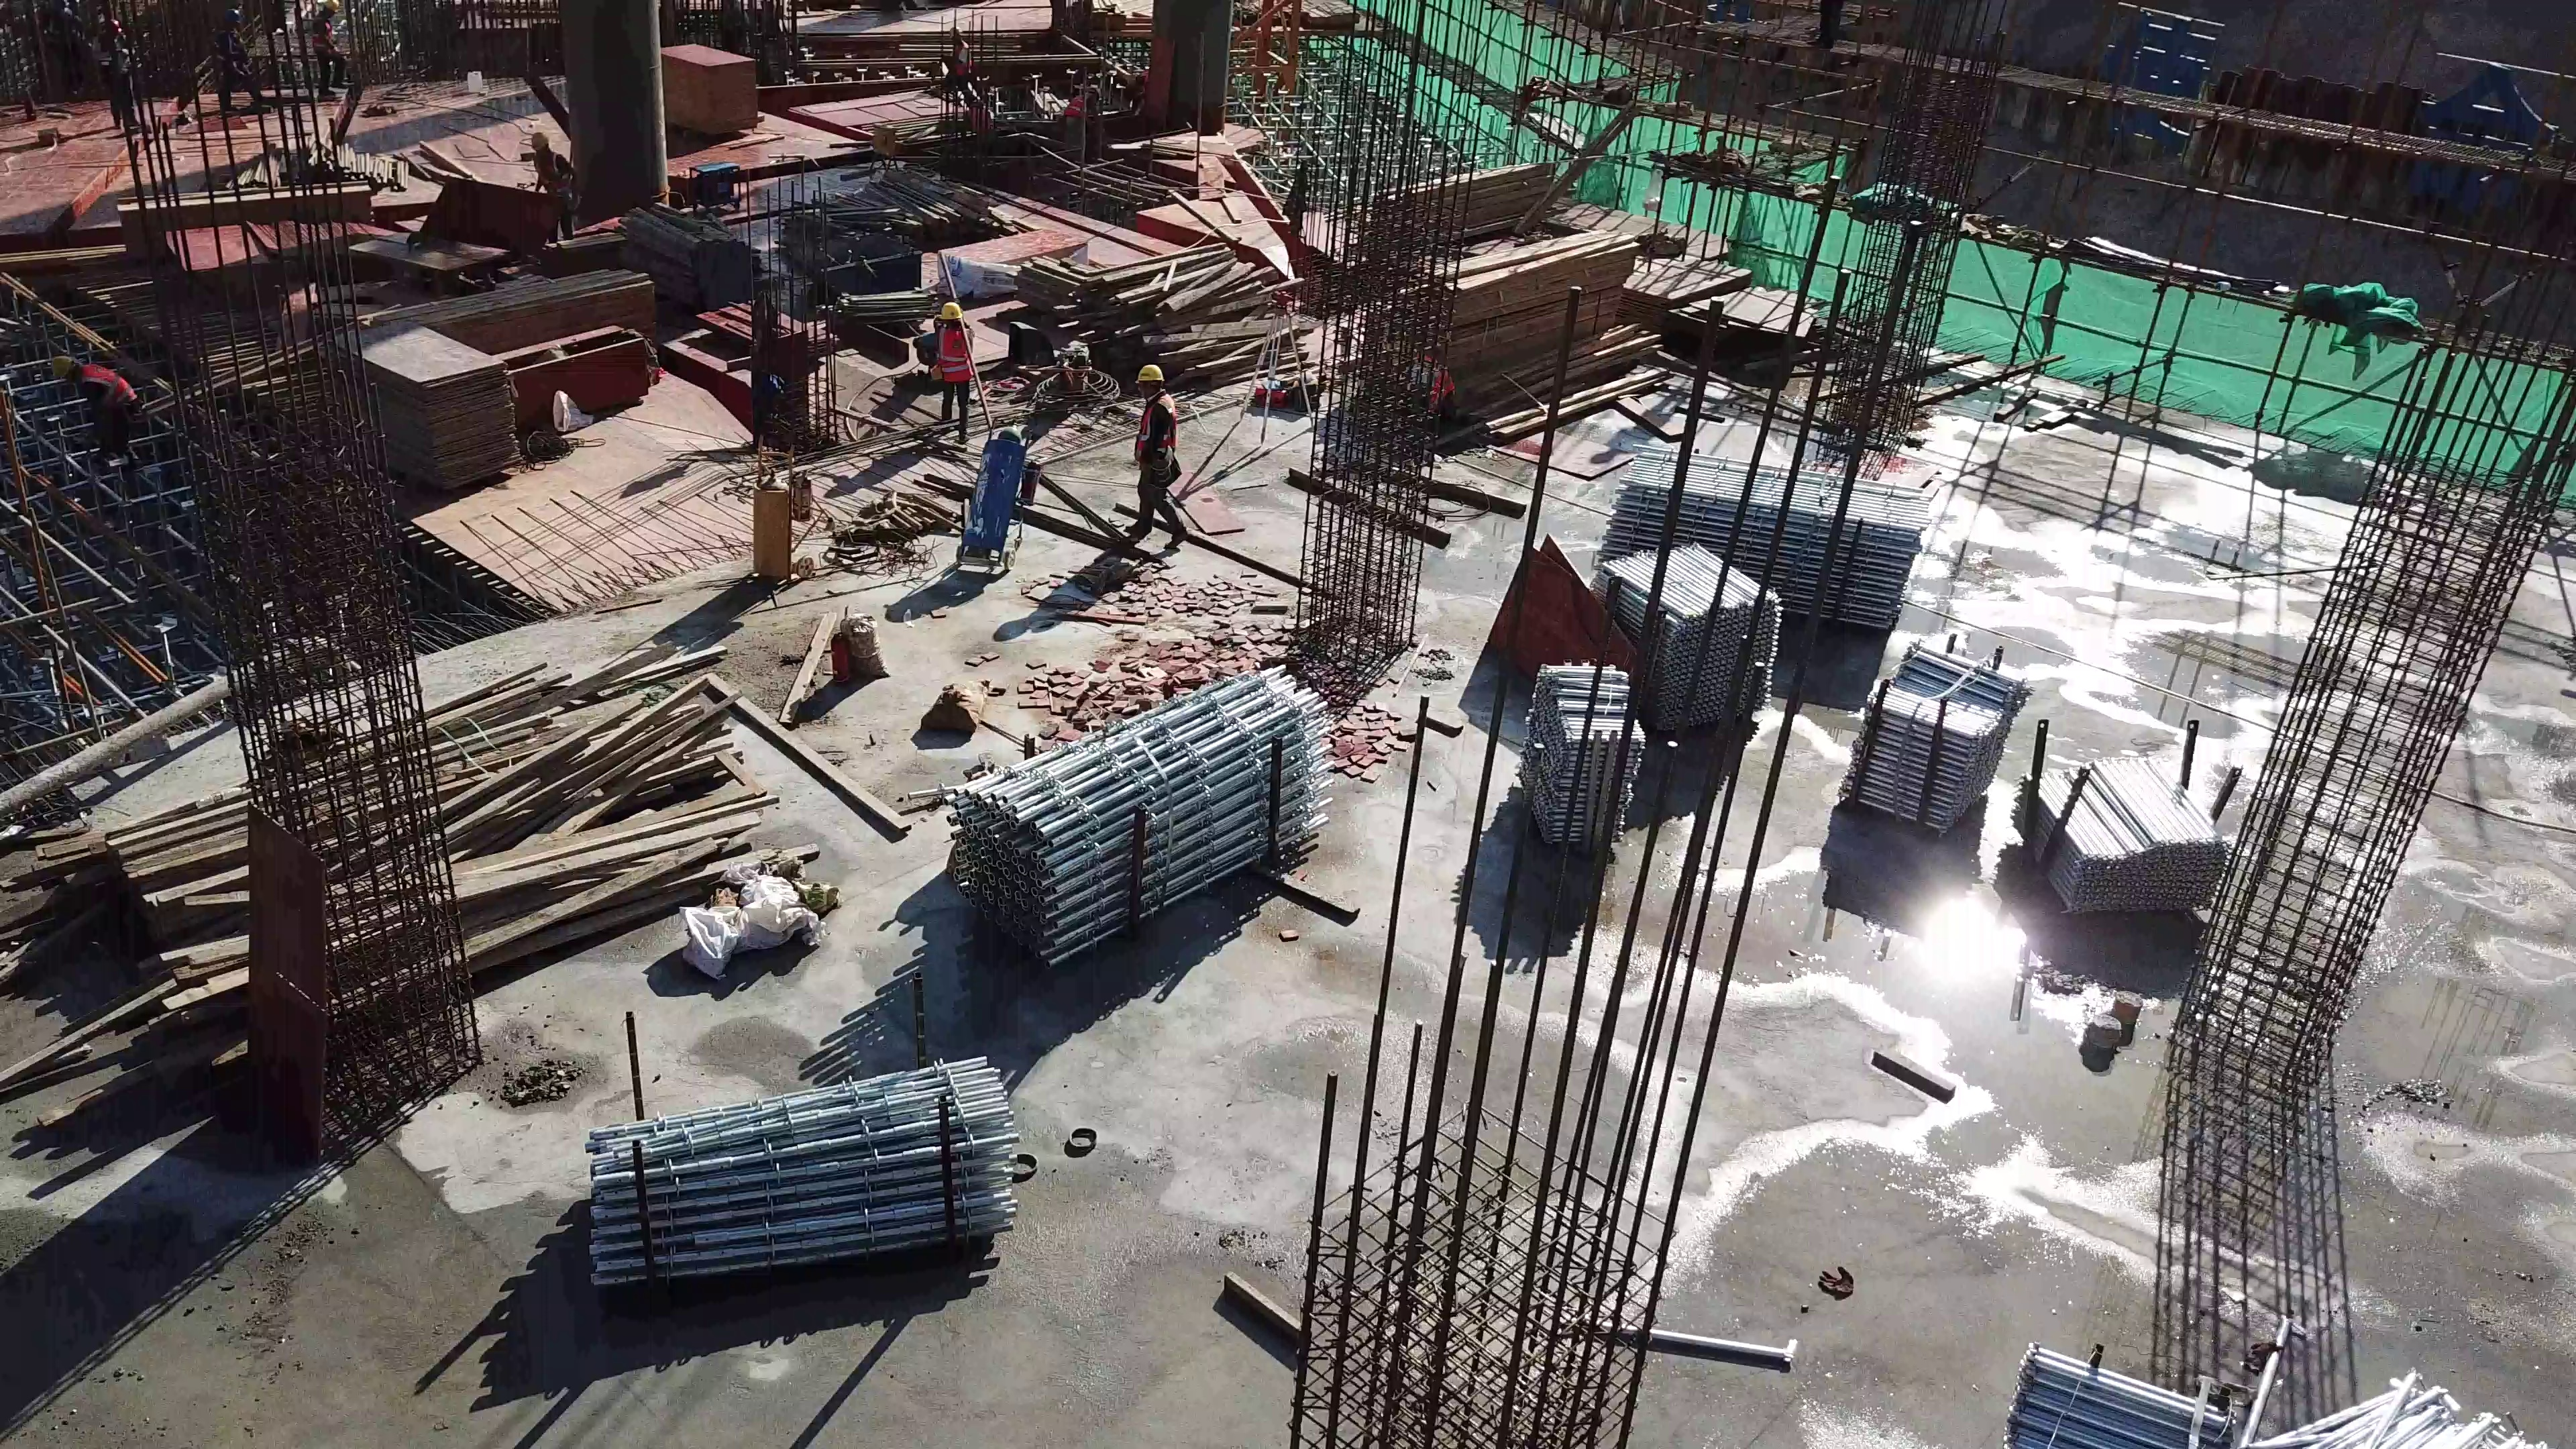board: (332, 321, 519, 486), (659, 40, 762, 140), (949, 232, 1083, 276)
cutter: (354, 233, 495, 284), (912, 339, 939, 368)
ebox: (867, 125, 901, 172)
helmet: (51, 350, 74, 380), (1137, 362, 1163, 383), (533, 130, 549, 155), (943, 301, 957, 319), (323, 1, 337, 15)
hopper: (801, 240, 914, 288)
person: (1124, 364, 1187, 551), (50, 354, 142, 459), (528, 131, 580, 241), (211, 8, 267, 110), (932, 301, 969, 447), (93, 19, 142, 126), (1403, 355, 1457, 430), (311, 1, 351, 105), (1064, 87, 1099, 138), (948, 27, 971, 94)
scaffold: (944, 675, 1325, 943), (580, 1059, 1022, 1252), (2008, 1340, 2538, 1446), (1615, 449, 1917, 623), (2016, 753, 2216, 917), (1604, 541, 1764, 731), (1849, 657, 2000, 817), (1521, 659, 1631, 838)
vest: (1130, 394, 1179, 466), (81, 366, 137, 410), (939, 323, 969, 382), (1417, 356, 1450, 399), (534, 152, 563, 189), (314, 20, 330, 52), (1069, 93, 1085, 119)
wood: (1417, 229, 1635, 362), (372, 266, 663, 346), (113, 191, 374, 231), (1382, 171, 1563, 221)
